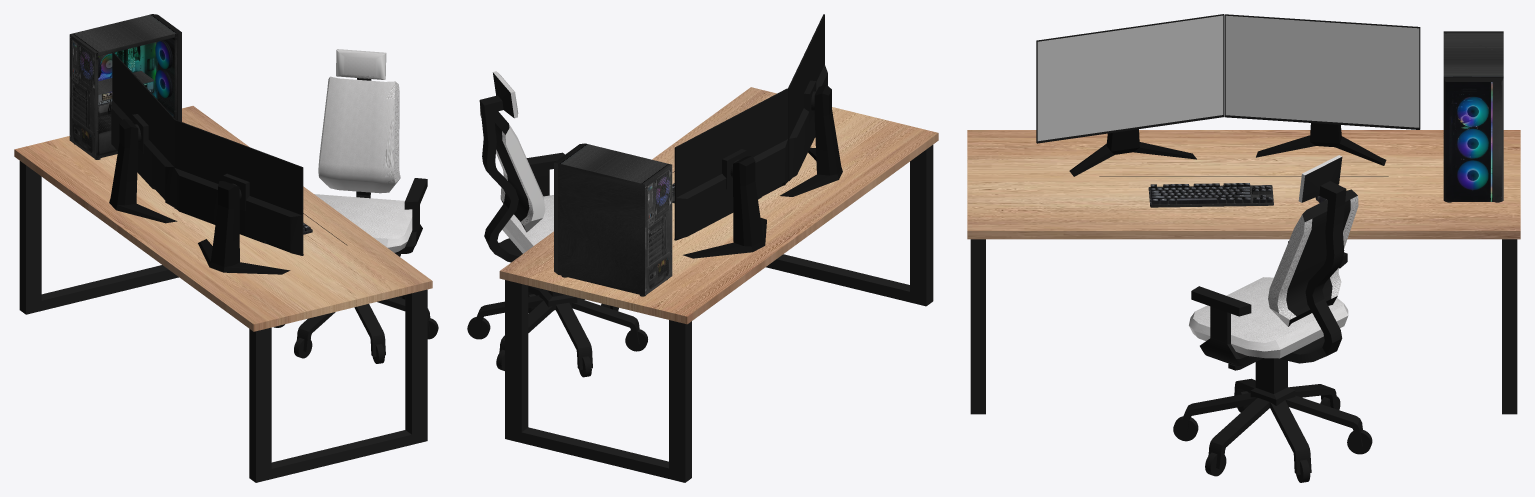
File: gaming_setup.fbx
3 views of the same model, side by side, from view 1: azimuth 30°, elevation 25°; view 2: azimuth 150°, elevation 25°; view 3: azimuth 270°, elevation 25° (orthographic). The views are drawn at different scales.
Parts seen in each view (by area): view 1: Plane, Cube_Cube.001, Plane.001, Cylinder.001, Plane.002, Cylinder, Cube.002, Cube.001; view 2: Plane, Plane.001, Plane.002, Cube_Cube.001, Cylinder, Cylinder.001, Cube.001, Cube.002; view 3: Plane, Cube_Cube.001, Cylinder, Cylinder.001, Plane.002, Plane.001, Plane.003, Cube.001, Cube.002.
Boxes of the visible parts, box(x1,y1,x2,y2) form: Plane: box(14, 106, 432, 331); Cube_Cube.001: box(273, 49, 438, 363); Plane.001: box(19, 161, 427, 482); Cylinder.001: box(174, 119, 303, 255); Plane.002: box(69, 14, 181, 159); Cylinder: box(111, 52, 174, 207); Cube.002: box(198, 181, 290, 274); Cube.001: box(109, 119, 177, 223); Plane: box(499, 87, 938, 324); Plane.001: box(505, 145, 933, 482); Plane.002: box(554, 143, 672, 296); Cube_Cube.001: box(467, 71, 647, 377); Cylinder: box(674, 88, 787, 240); Cylinder.001: box(788, 14, 827, 181); Cube.001: box(683, 155, 766, 258); Cube.002: box(780, 84, 842, 196); Plane: box(967, 130, 1520, 239); Cube_Cube.001: box(1173, 155, 1372, 482); Cylinder: box(1224, 14, 1420, 129); Cylinder.001: box(1036, 14, 1224, 143); Plane.002: box(1443, 31, 1503, 202); Plane.001: box(970, 239, 1517, 414); Plane.003: box(1148, 183, 1273, 207); Cube.001: box(1256, 123, 1386, 165); Cube.002: box(1069, 129, 1196, 176).
Bounding box in the file's own units: 511 × 447 × 700.
